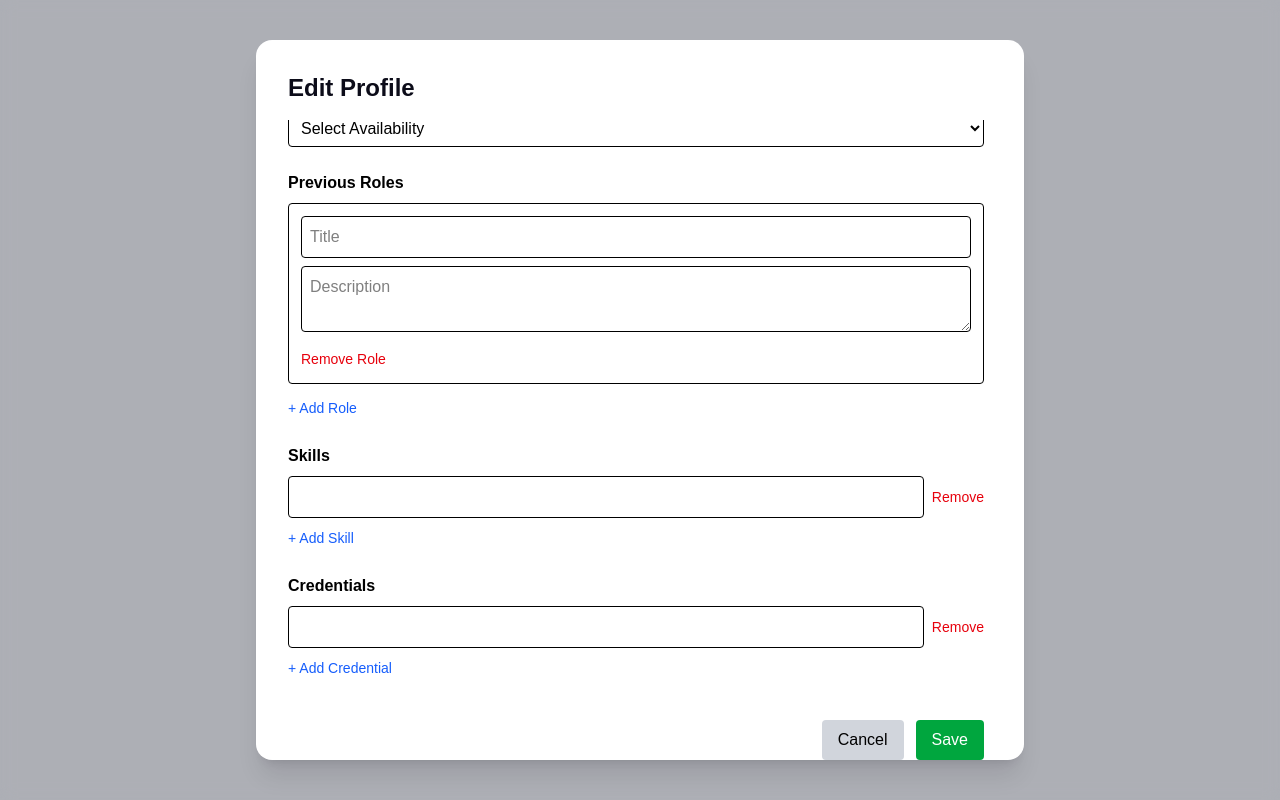
Test: ProfilePopUp › displays error when required fields are empty
This screenshot has width=1280, height=800.
(page scrolled)
Click the button "Save" at (950, 740), box 916,720 -> 984,760
(page scrolled)
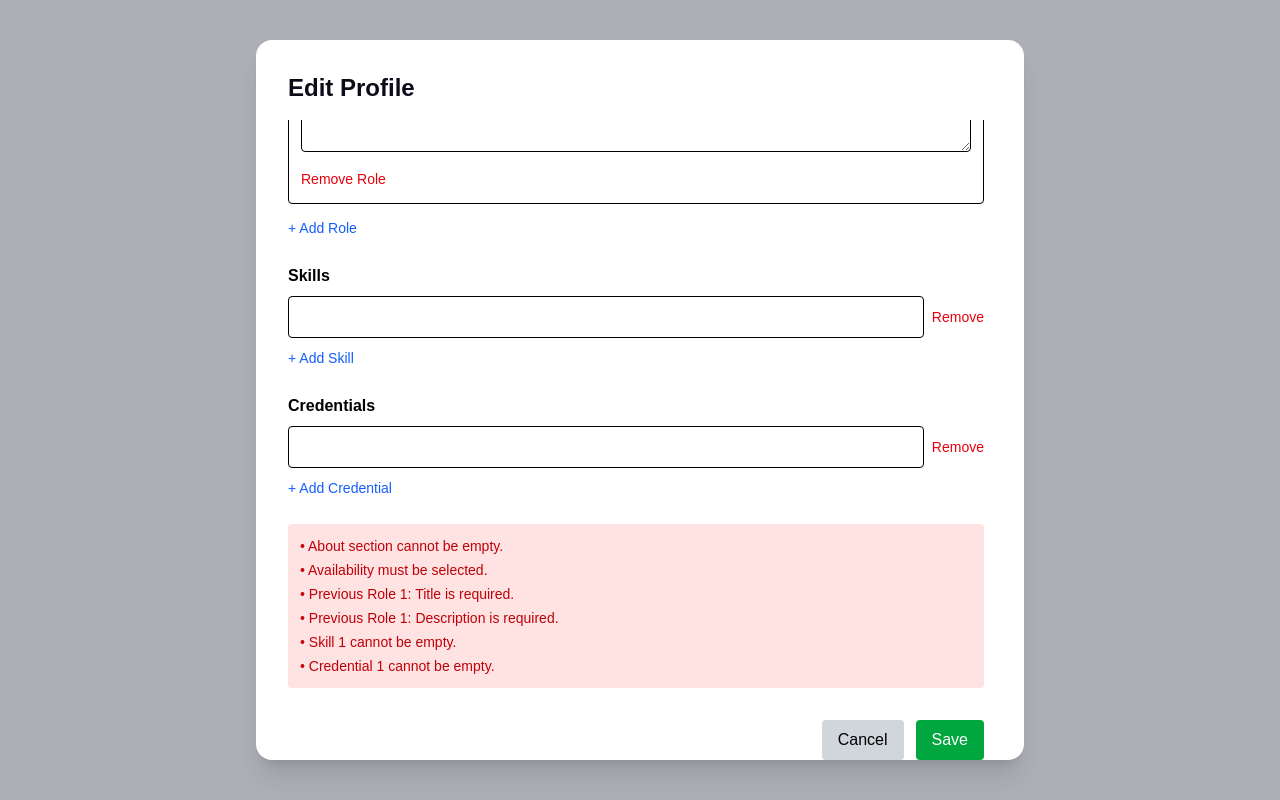
Expected: the text "• About section cannot be empty." is shown, 300,538 -> 503,554
Expected: the text "• Availability must be selected." is shown, 300,562 -> 488,578
Expected: the text "• Previous Role 1: Title is required." is shown, 300,586 -> 514,602
